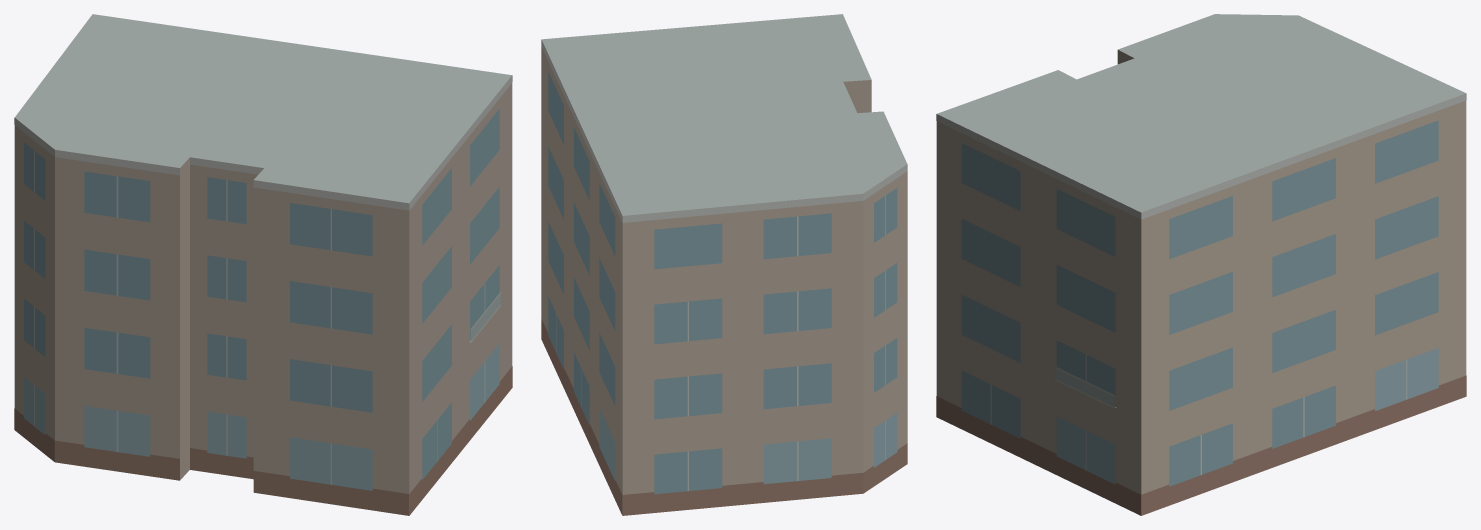
File: survey-upis-32635195.glb
3 renders of one model, left to right at view 1: azimuth 30°, elevation 25°; view 2: azimuth 150°, elevation 25°; view 3: azimuth 270°, elevation 25°, orthographic. The views are drawn at different scales.
Parts seen in each view (by area): view 1: survey-upis-32635195.tmp; view 2: survey-upis-32635195.tmp; view 3: survey-upis-32635195.tmp.
Boxes of the visible parts, left/top/right/bottom form: survey-upis-32635195.tmp: left=14, top=14, right=512, bottom=515; survey-upis-32635195.tmp: left=541, top=14, right=907, bottom=515; survey-upis-32635195.tmp: left=936, top=14, right=1466, bottom=515.
Bounding box in the file's own units: 14.62 × 10.4 × 16.48.
